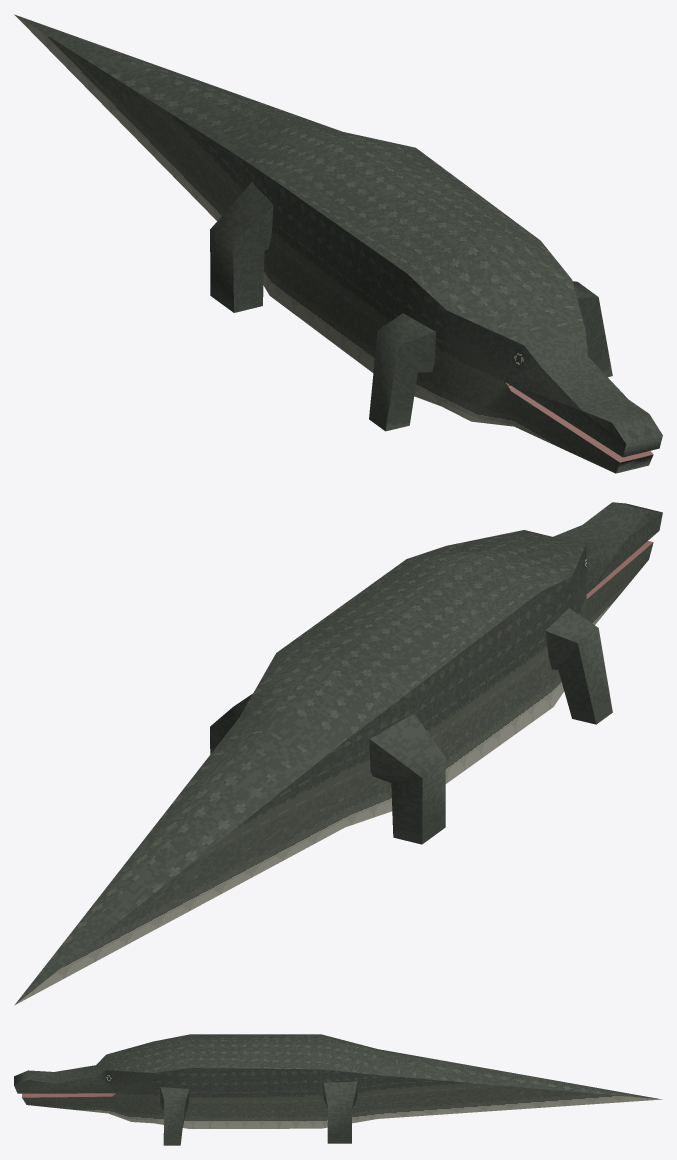
Rendered from 01ee_Crocodile.glb.
3 views of the same model, one above another, from view 1: azimuth 30°, elevation 25°; view 2: azimuth 150°, elevation 25°; view 3: azimuth 270°, elevation 25° (orthographic). The views are drawn at different scales.
Visible parts, largest first — view 1: part_0; view 2: part_0; view 3: part_0.
Part boxes in pixels (x1=…): part_0: x1=14, y1=14, x2=662, y2=473; part_0: x1=14, y1=502, x2=662, y2=1005; part_0: x1=14, y1=1034, x2=662, y2=1145.
Bounding box in the file's own units: 1.21 × 0.7476 × 5.8.
1 material, 1 textured.
